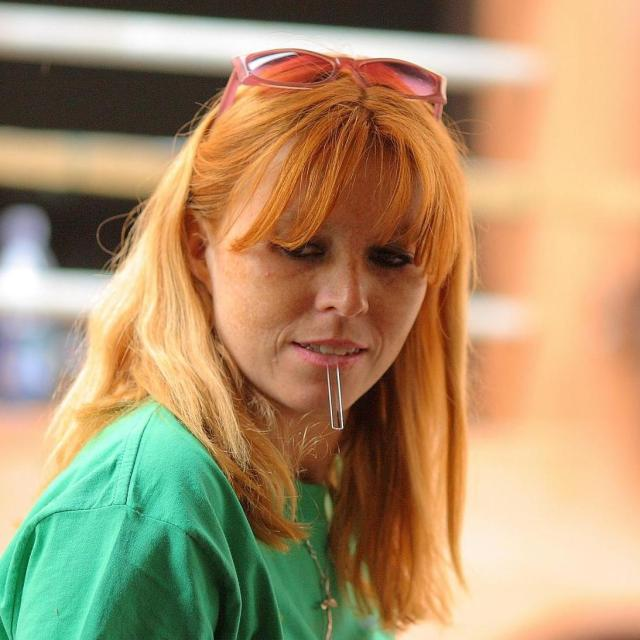no-glass: (262, 236, 421, 273)
